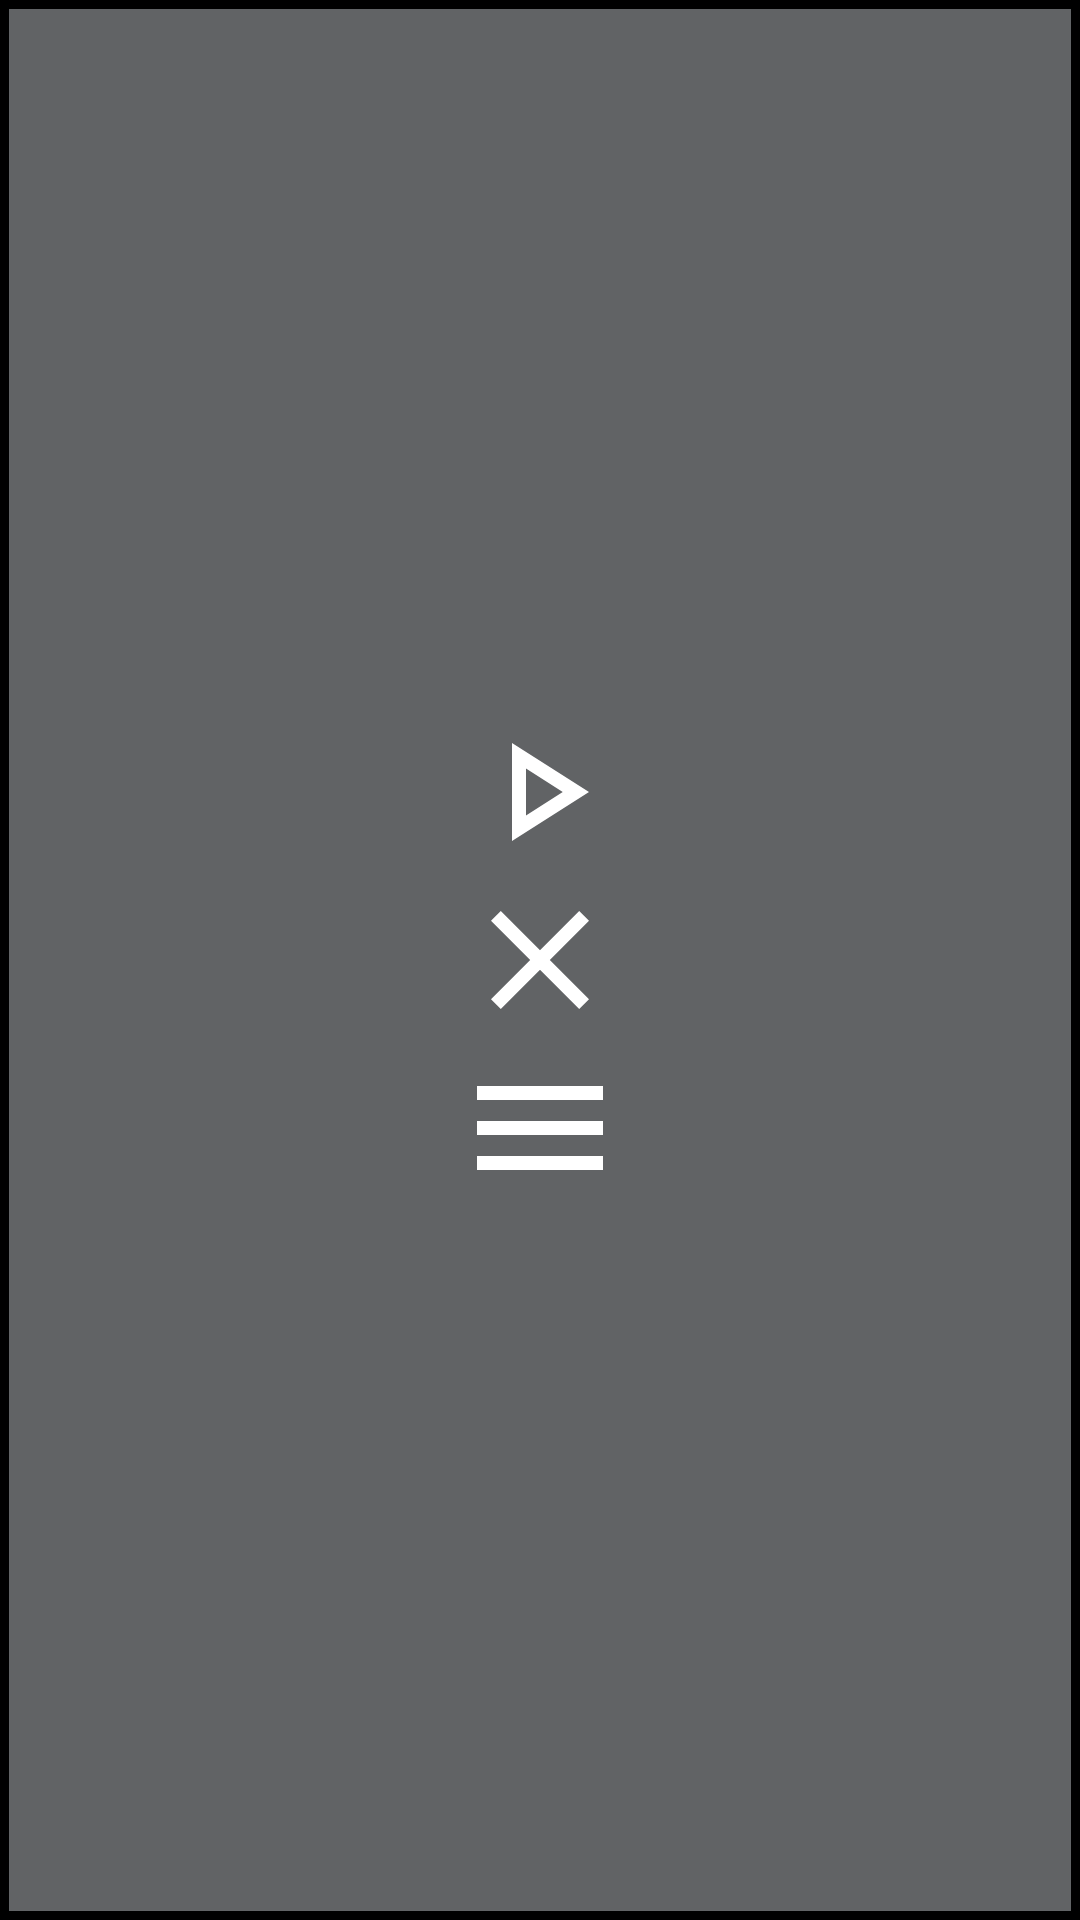

Icons on this 1080 x 1920 Android screen, each with its box as box=[x1, y1, x2, y2]:
close: box=[491, 911, 589, 1009]
menu: box=[477, 1086, 603, 1170]
play: box=[512, 743, 589, 841]
